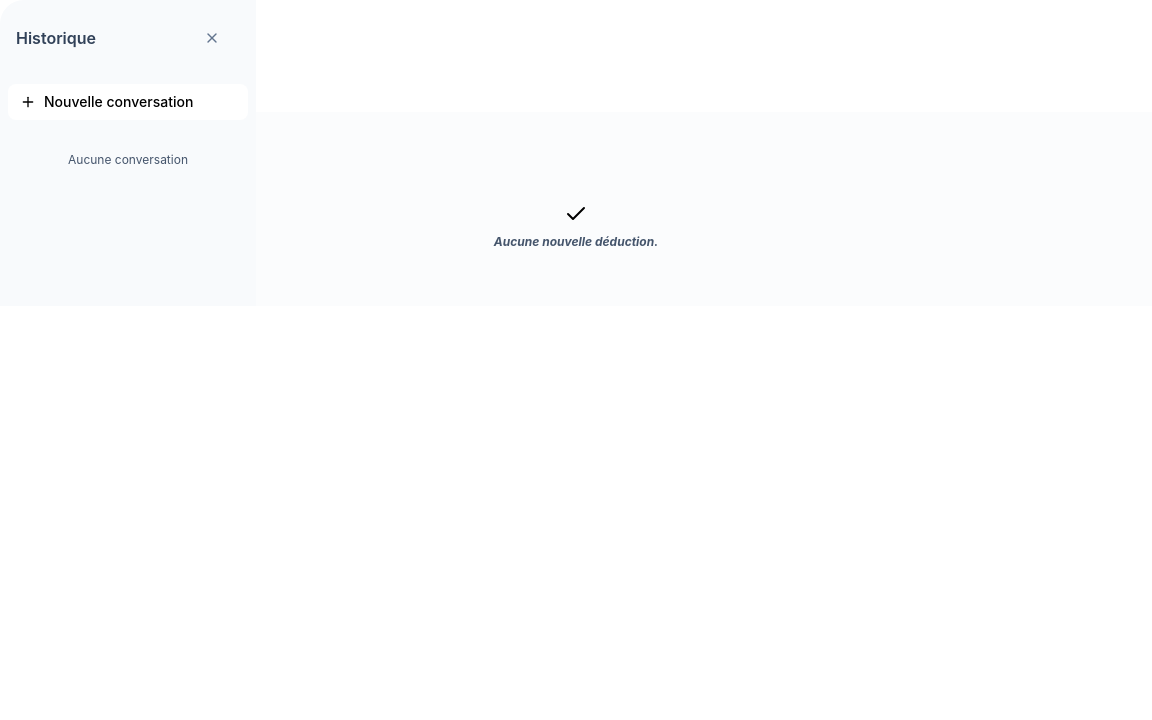
it: CrownBot G9 reachable interaction truth › a late history A response never overwrites the selected history B
Click the button named "Ouvrir l'historique Crown Bot" at (30,38), box [8,16,52,60]
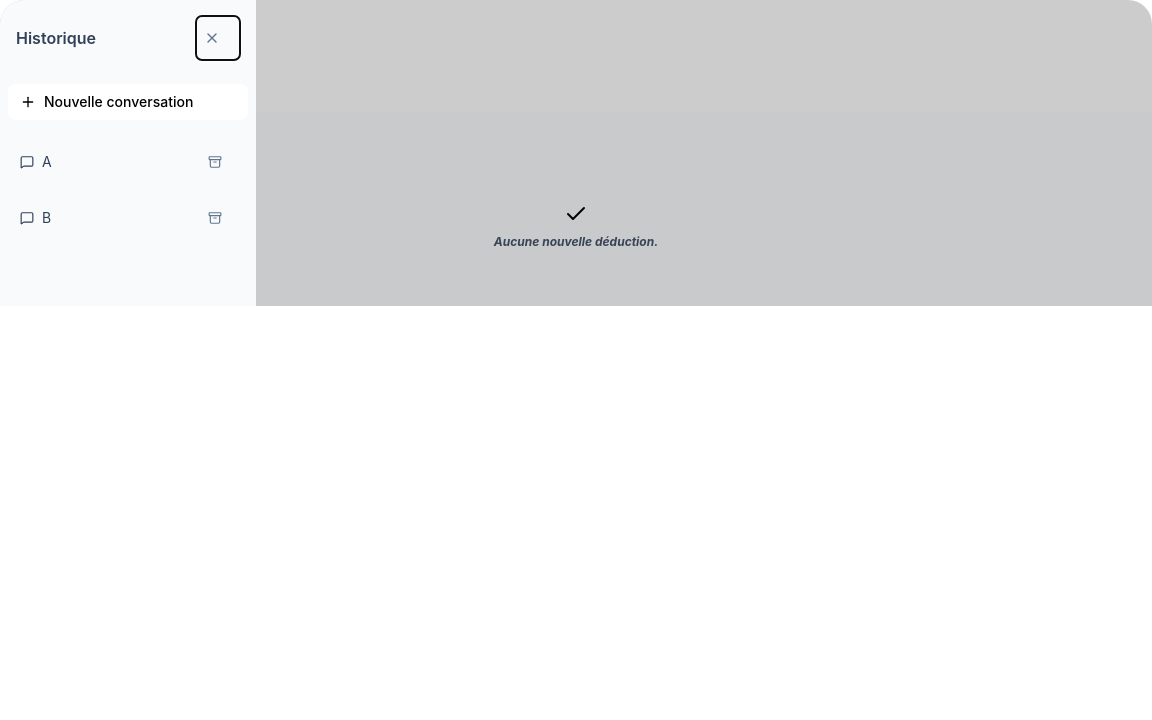
Click the button named "Ouvrir la conversation A" at (104,162), box [12,140,196,184]
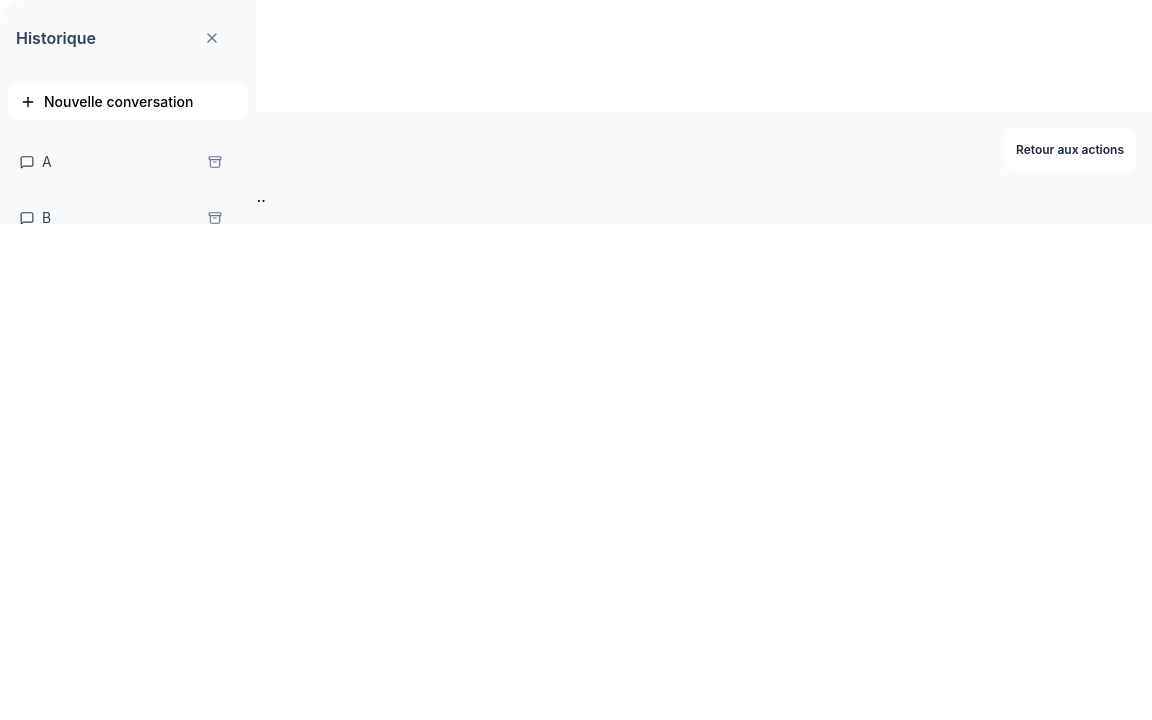
Click the button named "Ouvrir l'historique Crown Bot" at (30,38), box [8,16,52,60]
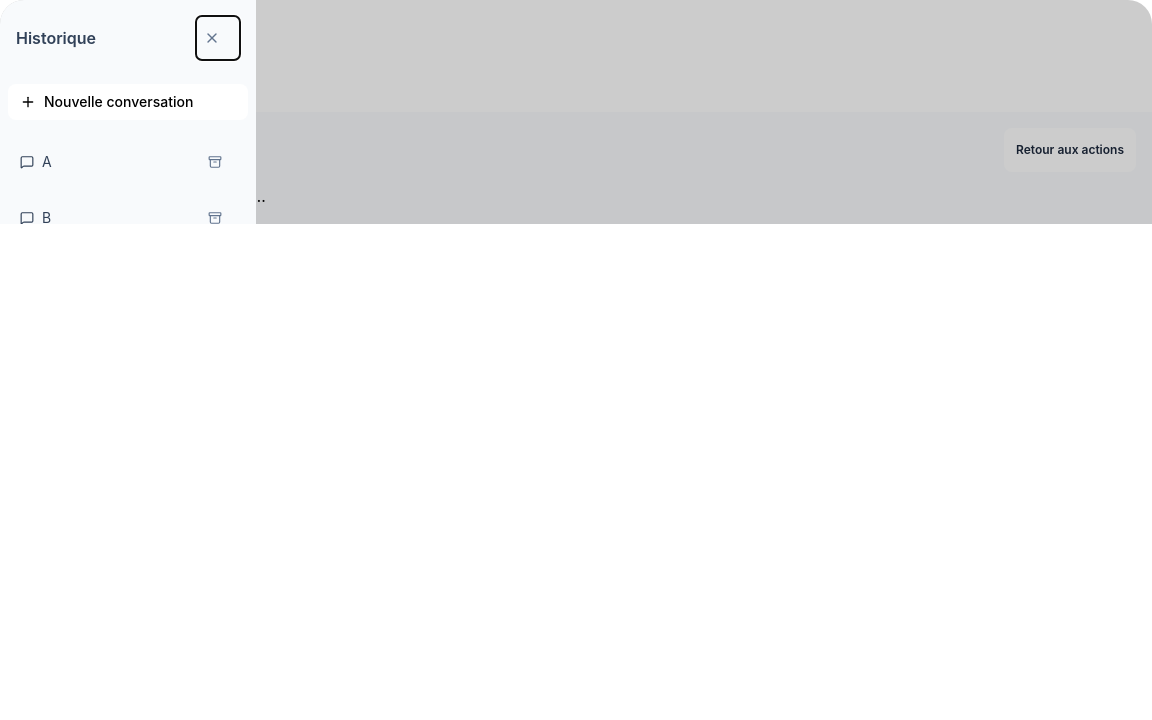
Click the button named "Ouvrir la conversation B" at (104,218), box [12,196,196,240]
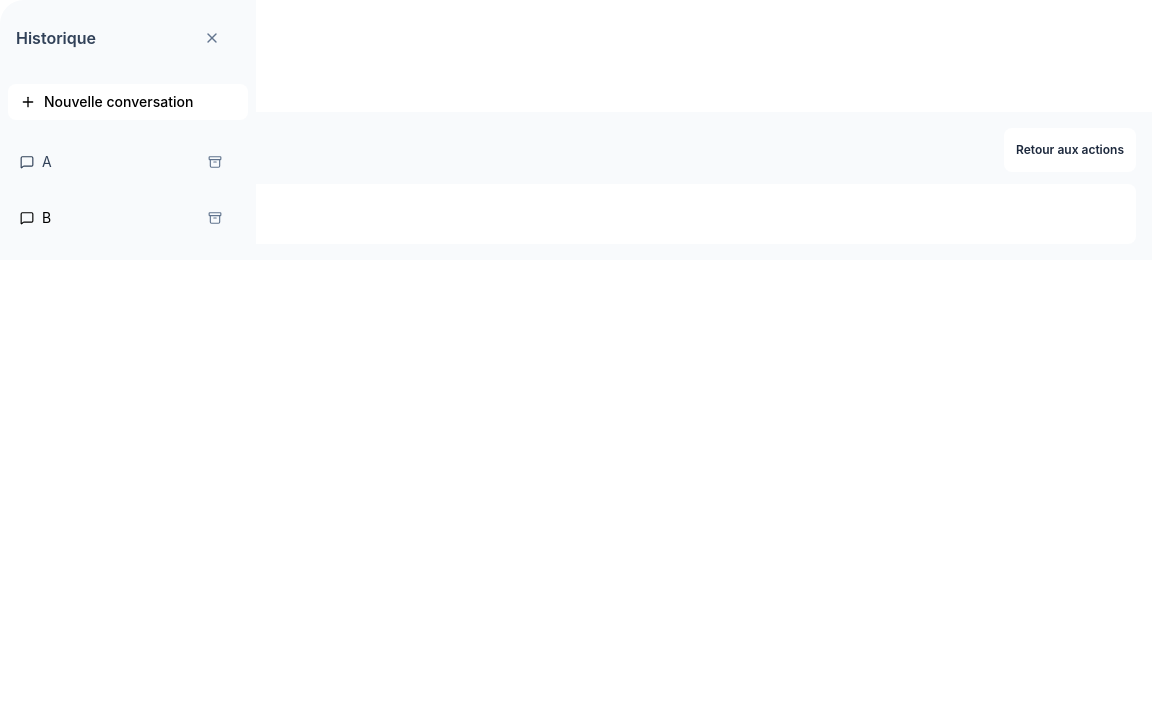
Check: the text "Message B seul" is shown, box [28,213,132,230]
